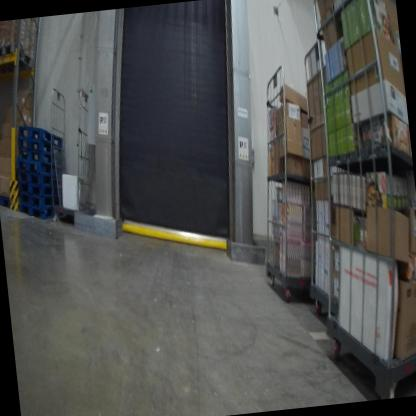pallet: (18, 120, 62, 154), (16, 138, 60, 172), (18, 185, 64, 215), (0, 40, 35, 77), (19, 132, 62, 161), (15, 166, 61, 193), (15, 155, 63, 180), (17, 195, 65, 220), (17, 176, 63, 201), (0, 188, 16, 211), (0, 47, 8, 74)
